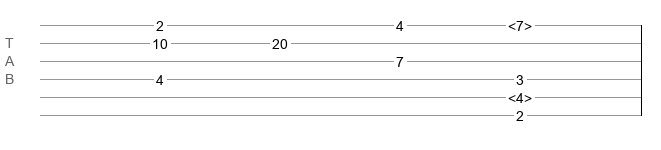10: (152, 36, 168, 46)
2: (156, 18, 164, 28), (516, 108, 524, 118)
20: (272, 36, 288, 46)
3: (516, 72, 524, 82)
4: (156, 72, 164, 82), (396, 18, 404, 28)
7: (396, 54, 404, 64)
harmonic: (508, 18, 532, 28), (508, 90, 532, 100)
